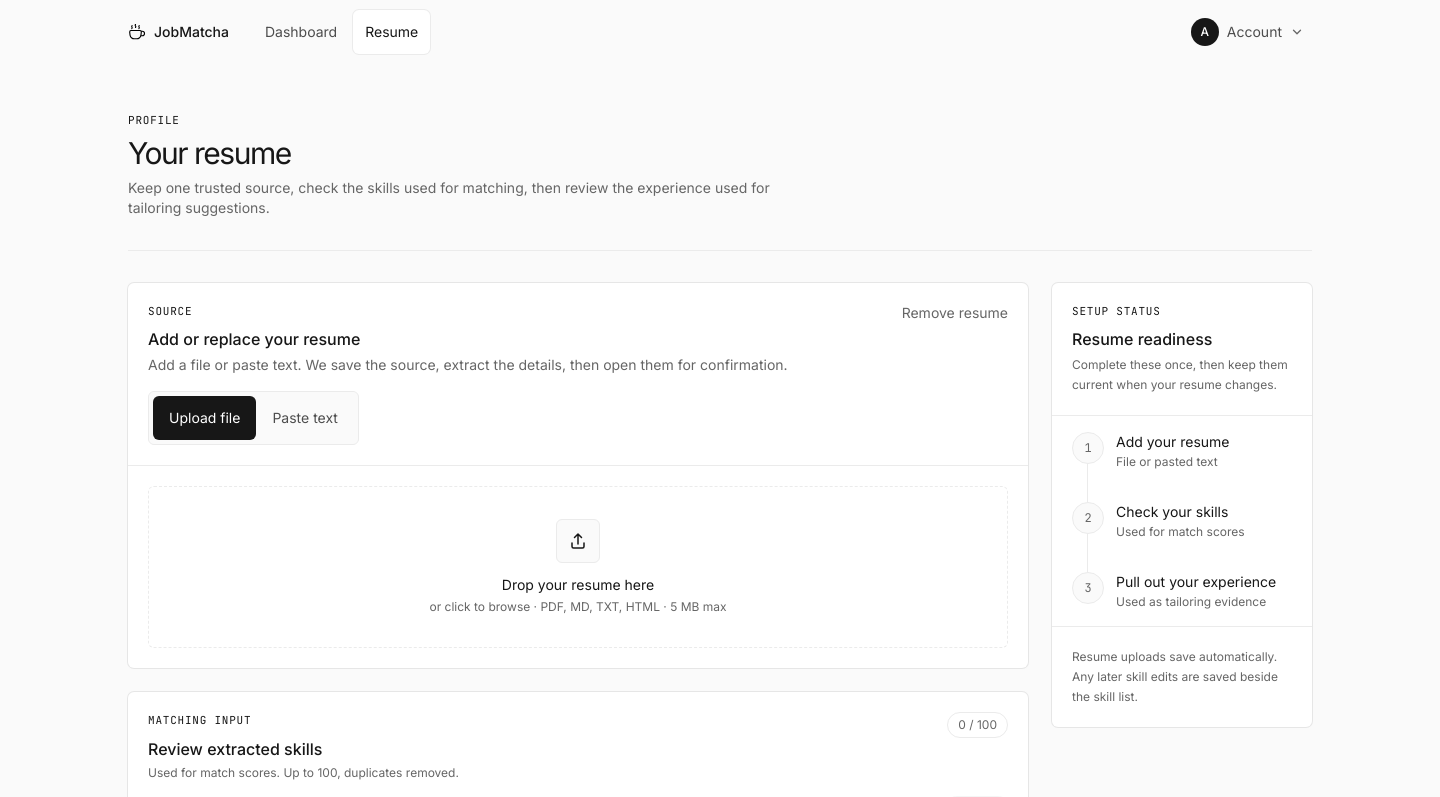
ResumePage guidance › keeps file upload primary and reveals pasted-text controls on request
Click the button "Paste text": (305, 418) [256,396,354,440]
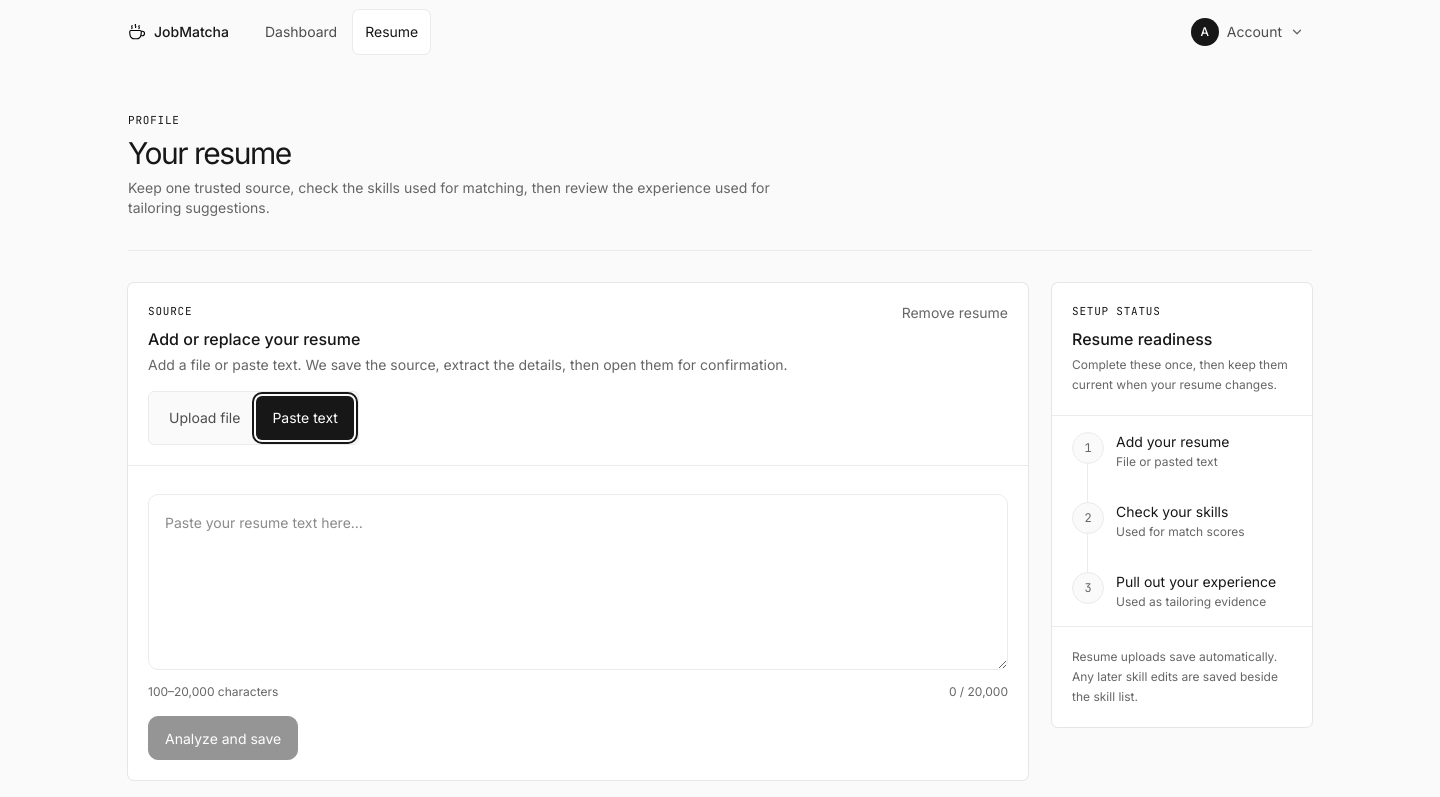
Expected: the text box with placeholder "Paste your resume text here…" is shown, [148,494,1008,670]
